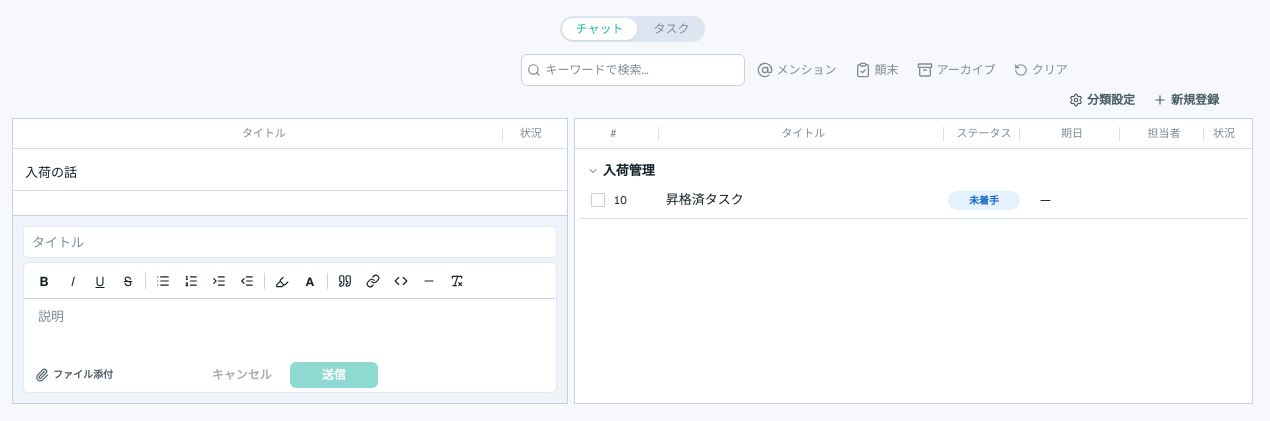
Test: DeskShell — モック挙動パリティ（A1） › チャットカードを開くとスレッドが出てグローバル入力欄が退避する（is-evacuated）
Click the button "入荷の話". click: (51, 172)
box: [13,155,567,191]
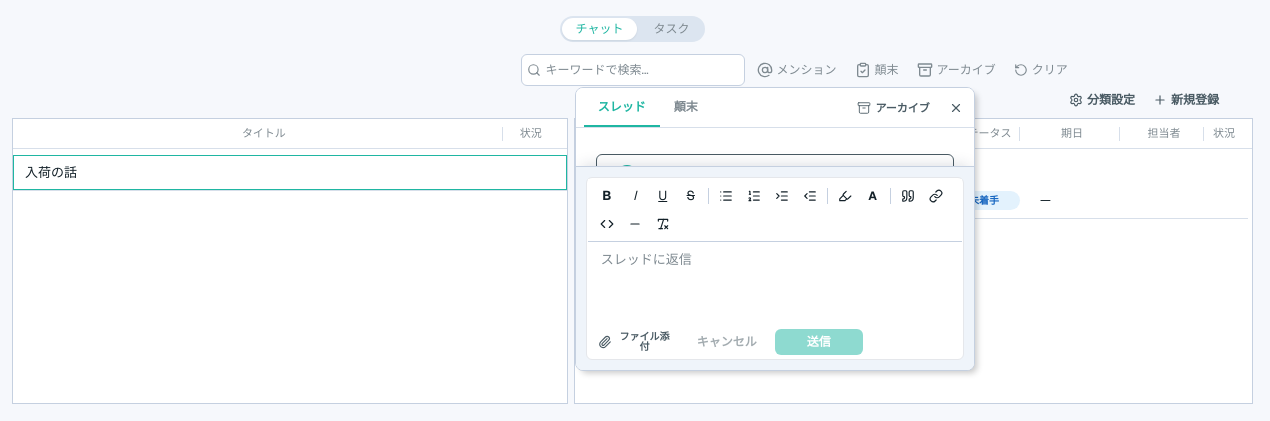
Expected: the element named "チャット詳細" is shown, [575,87,975,371]
